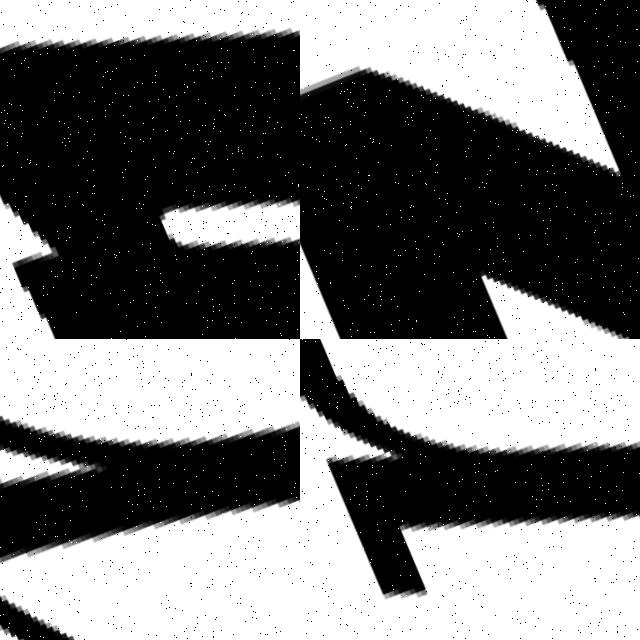N: (0, 0, 300, 339)
R: (300, 339, 640, 640), (0, 339, 300, 640)
Z: (300, 0, 640, 339)
